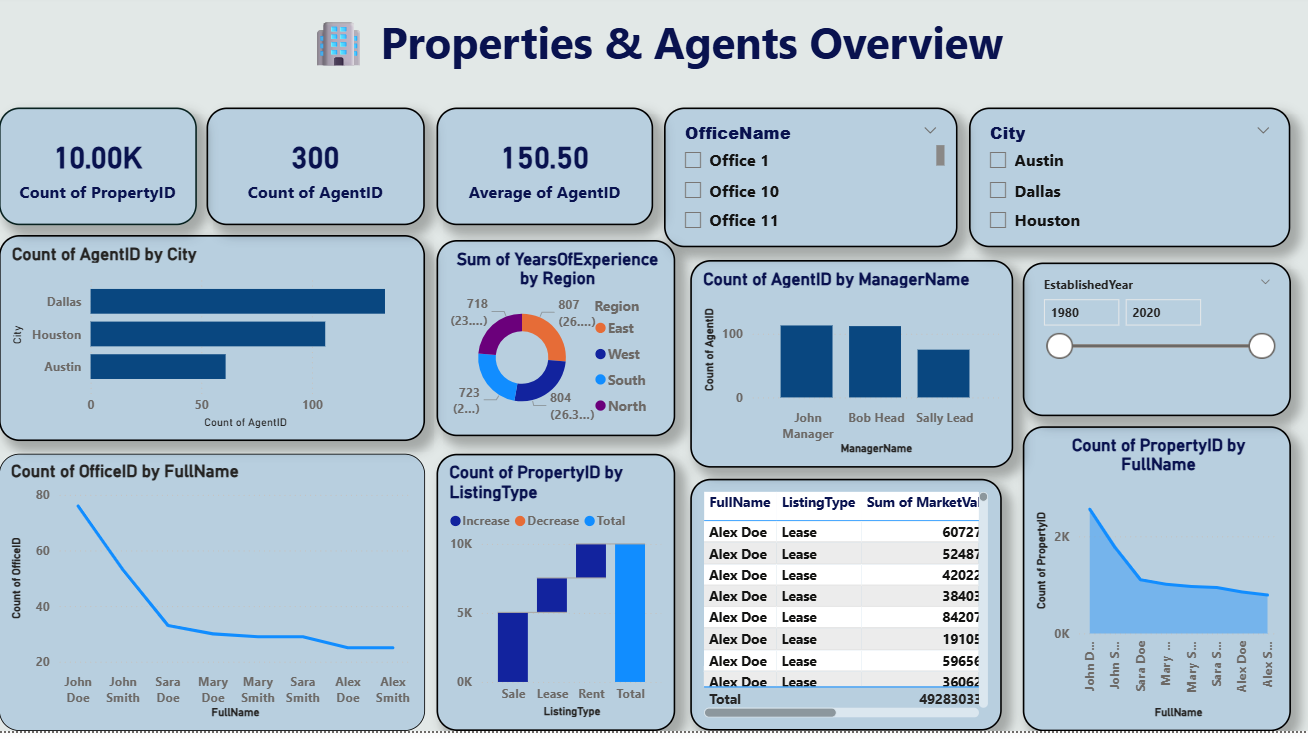

This screenshot's page, from the dashboard's own definition file:
{"tool":"powerbi","page":{"name":"Page 10","canvas":[1280,720],"ordinal":9},"visuals":[{"type":"card","fields":{"Values":["CountNonNull(Agents.AgentID)"]},"box":[203.4,109.6,213.5,115.4],"z":0},{"type":"card","fields":{"Values":["CountNonNull(Properties.PropertyID)"]},"box":[0,109.6,193.3,115.4],"z":1},{"type":"card","fields":{"Values":["Avg(Agents.AgentID)"]},"box":[428.5,109.6,212.1,115.4],"z":2},{"type":"slicer","fields":{"Values":["Offices.City"]},"box":[949.3,109.6,314.5,137.1],"z":3},{"type":"slicer","fields":{"Values":["Offices.OfficeName"]},"box":[650.7,109.6,287.1,137.1],"z":4},{"type":"slicer","fields":{"Values":["Offices.EstablishedYear"]},"box":[1001.3,261.1,262.6,150],"z":5},{"type":"barChart","fields":{"Category":["Offices.City"],"Y":["CountNonNull(Agents.AgentID)"]},"box":[0,235.2,417,202],"z":6},{"type":"columnChart","fields":{"Category":["Offices.ManagerName"],"Y":["CountNonNull(Agents.AgentID)"]},"box":[676.7,259.7,316,203.4],"z":7},{"type":"donutChart","fields":{"Category":["Agents.Region"],"Y":["Sum(Agents.YearsOfExperience)"]},"box":[428.5,239.5,233.7,191.9],"z":9},{"type":"lineChart","fields":{"Category":["Agents.FullName"],"Y":["CountNonNull(Agents.OfficeID)"]},"box":[0,448.7,417,271.2],"z":10},{"type":"textbox","box":[274.1,11.5,737.3,83.7],"z":11},{"type":"waterfallChart","fields":{"Category":["Properties.ListingType"],"Y":["CountNonNull(Properties.PropertyID)"]},"box":[428.5,448.7,233.7,271.2],"z":12},{"type":"tableEx","fields":{"Values":["Agents.FullName","Properties.ListingType","Sum(Properties.MarketValue)","Avg(Agents.YearsOfExperience)","Agents.OfficeID"]},"box":[676.7,473.2,304.4,246.7],"z":13},{"type":"areaChart","fields":{"Category":["Agents.FullName"],"Y":["CountNonNull(Properties.PropertyID)"]},"box":[1001.3,421.3,262.6,298.7],"z":14}]}

Visuals, with their boxes in screenshot pixels (x1, y1, x2, y2), scaled from the page's 1280x720 canvas onto the 1308x740 screenshot:
card - CountNonNull(Agents.AgentID): select_region(208, 113, 426, 231)
card - CountNonNull(Properties.PropertyID): select_region(0, 113, 198, 231)
card - Avg(Agents.AgentID): select_region(438, 113, 655, 231)
slicer - Offices.City: select_region(970, 113, 1291, 254)
slicer - Offices.OfficeName: select_region(665, 113, 958, 254)
slicer - Offices.EstablishedYear: select_region(1023, 268, 1292, 423)
barChart - Offices.City x CountNonNull(Agents.AgentID): select_region(0, 242, 426, 449)
columnChart - Offices.ManagerName x CountNonNull(Agents.AgentID): select_region(692, 267, 1014, 476)
donutChart - Agents.Region x Sum(Agents.YearsOfExperience): select_region(438, 246, 677, 443)
lineChart - Agents.FullName x CountNonNull(Agents.OfficeID): select_region(0, 461, 426, 739)
textbox: select_region(280, 12, 1034, 98)
waterfallChart - Properties.ListingType x CountNonNull(Properties.PropertyID): select_region(438, 461, 677, 739)
tableEx - Agents.FullName x Properties.ListingType: select_region(692, 486, 1003, 739)
areaChart - Agents.FullName x CountNonNull(Properties.PropertyID): select_region(1023, 433, 1292, 739)
